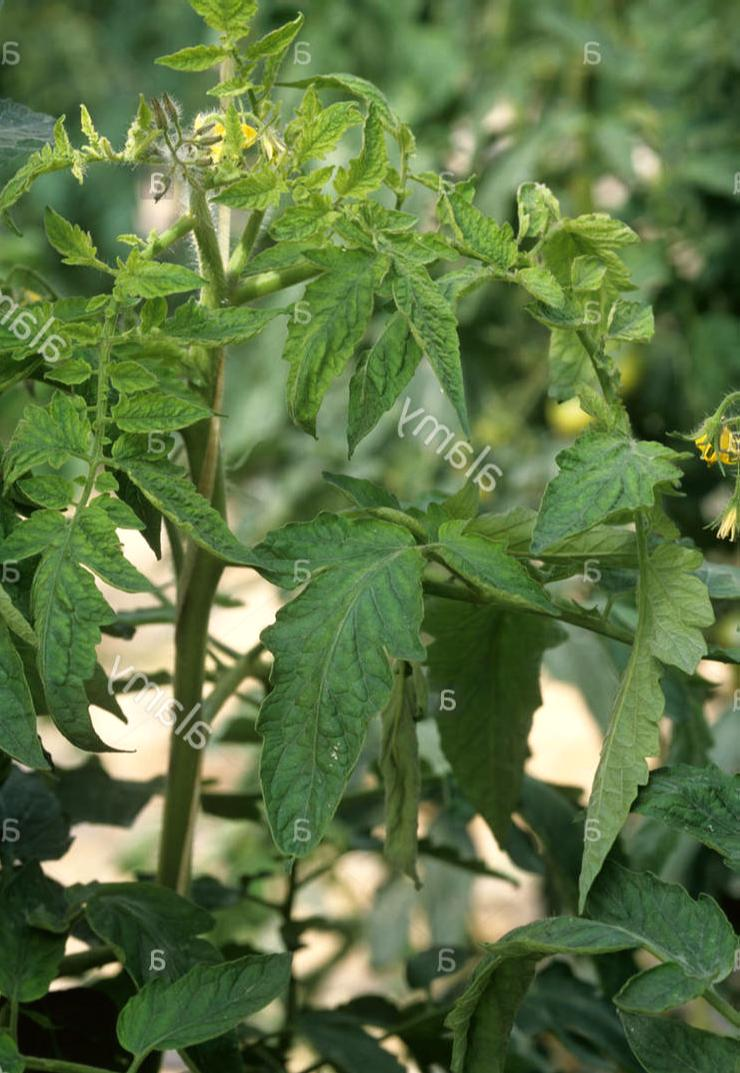Tomato leaf yellow virus: (33, 239, 235, 746), (513, 505, 740, 913), (250, 524, 427, 867), (379, 211, 467, 457)
